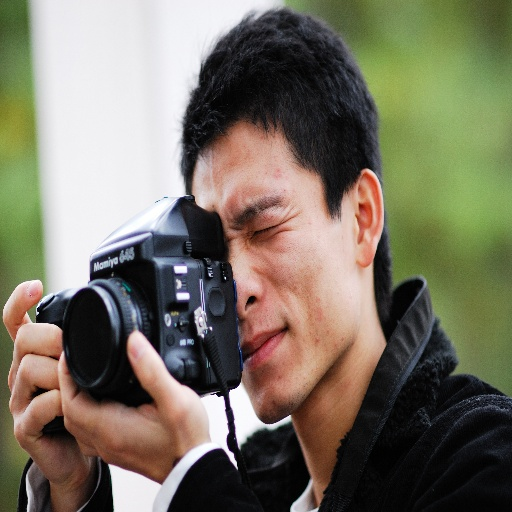hand: (58, 328, 209, 485), (11, 308, 92, 501)
